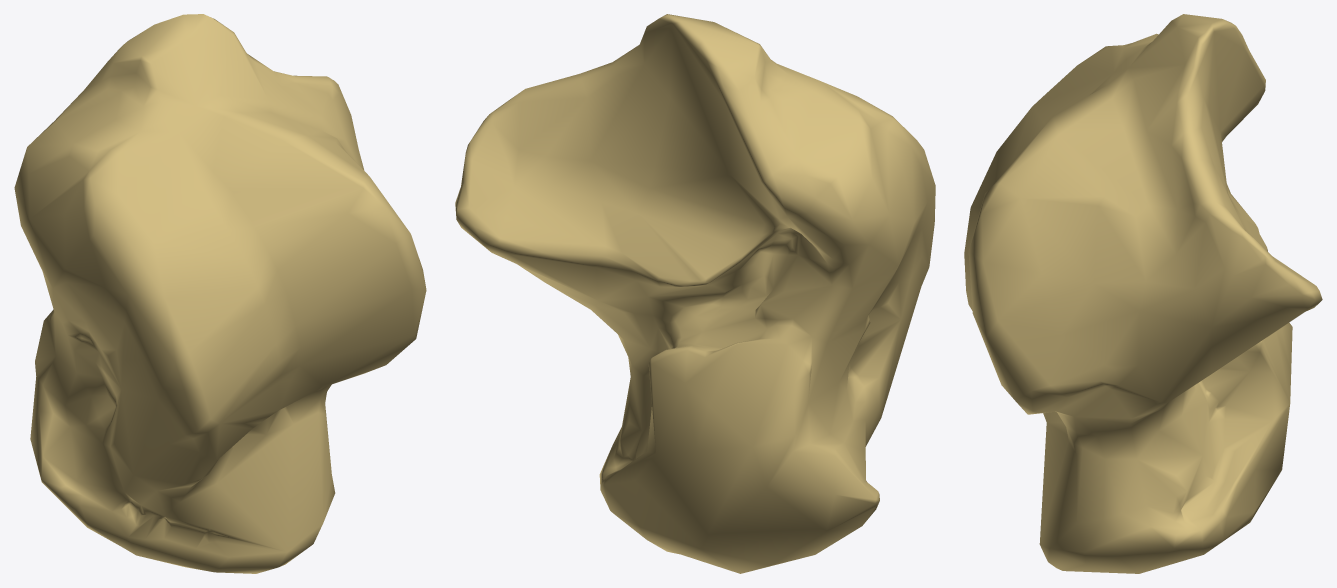
The picture shows the model from 3 angles, left to right: view 1: azimuth 30°, elevation 25°; view 2: azimuth 150°, elevation 25°; view 3: azimuth 270°, elevation 25°; orthographic projection. The views are drawn at different scales.
Visible parts, largest first — view 1: 左侧距骨; view 2: 左侧距骨; view 3: 左侧距骨.
Boxes of the visible parts, x1,y1,x2,y2 form: 左侧距骨: (14,14,426,573); 左侧距骨: (455,14,935,573); 左侧距骨: (964,14,1322,573).
Bounding box in the file's own units: 0.062 × 0.087 × 0.0525.
